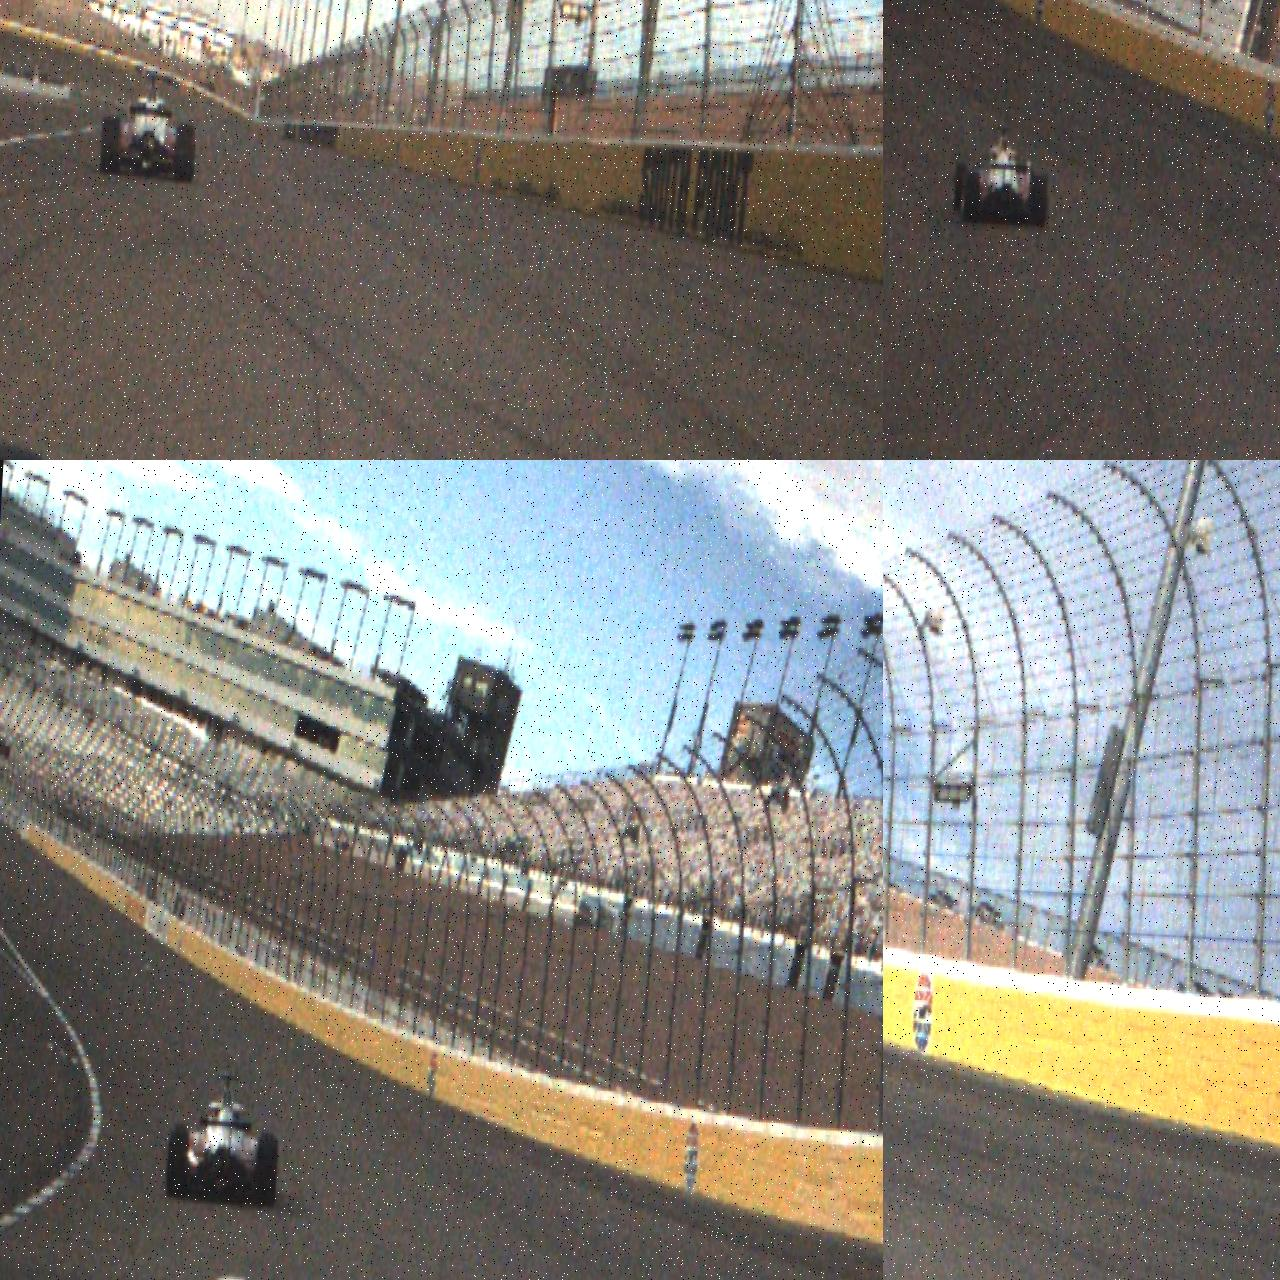AV: (164, 1070, 282, 1210), (98, 65, 200, 183), (952, 122, 1052, 226)
Wheel: (253, 1130, 280, 1210), (164, 1125, 189, 1197), (174, 122, 197, 183), (99, 116, 121, 174), (1028, 174, 1048, 226), (960, 172, 980, 222), (952, 161, 968, 210)
